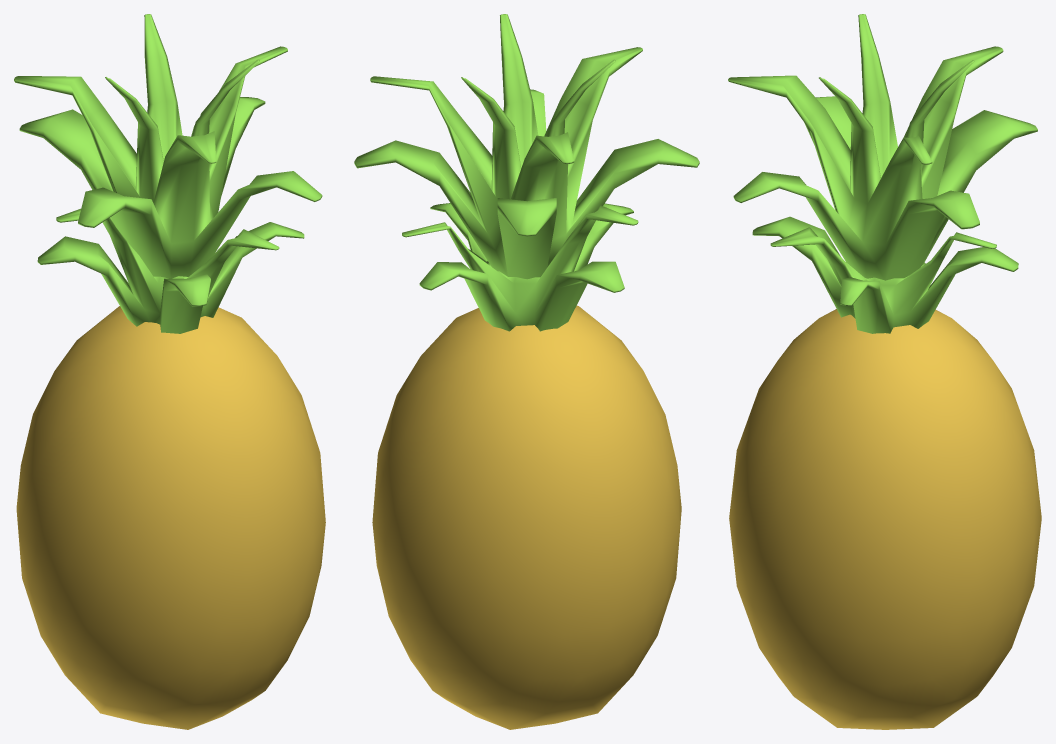
Rendered from pineapple.fbx.
3 renders of one model, left to right at view 1: azimuth 30°, elevation 25°; view 2: azimuth 150°, elevation 25°; view 3: azimuth 270°, elevation 25°, orthographic.
Parts seen in each view (by area): view 1: Pineapple, Pineapple Frond; view 2: Pineapple, Pineapple Frond; view 3: Pineapple, Pineapple Frond.
Part boxes in pixels (bbox=[...]): Pineapple: bbox=[16, 306, 325, 729]; Pineapple Frond: bbox=[14, 14, 322, 333]; Pineapple: bbox=[372, 305, 681, 729]; Pineapple Frond: bbox=[354, 14, 699, 331]; Pineapple: bbox=[729, 309, 1041, 729]; Pineapple Frond: bbox=[728, 14, 1037, 333].
Size of the model in its own units: 14.51 by 14.49 by 33.13.
